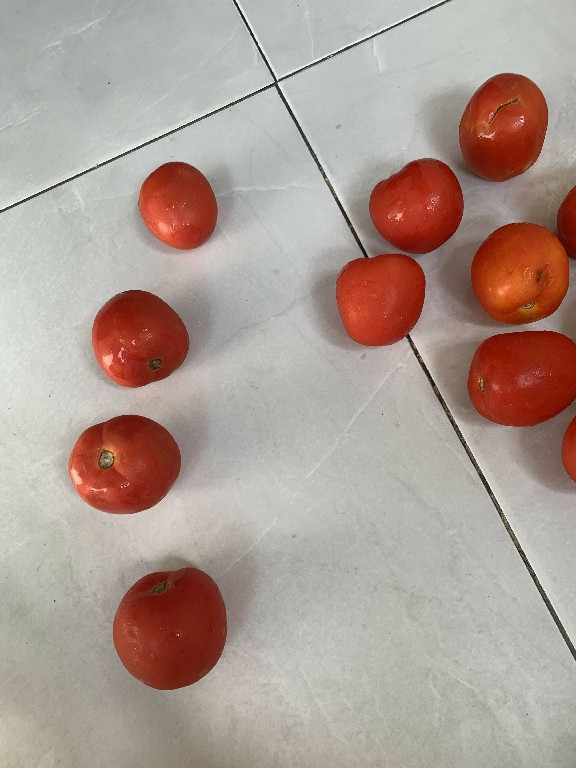NG: (461, 217, 568, 328), (457, 69, 549, 184)
OK: (111, 559, 235, 696), (60, 413, 186, 516), (464, 327, 575, 438), (89, 285, 190, 393), (326, 252, 432, 352), (365, 157, 467, 252), (136, 157, 220, 252)
